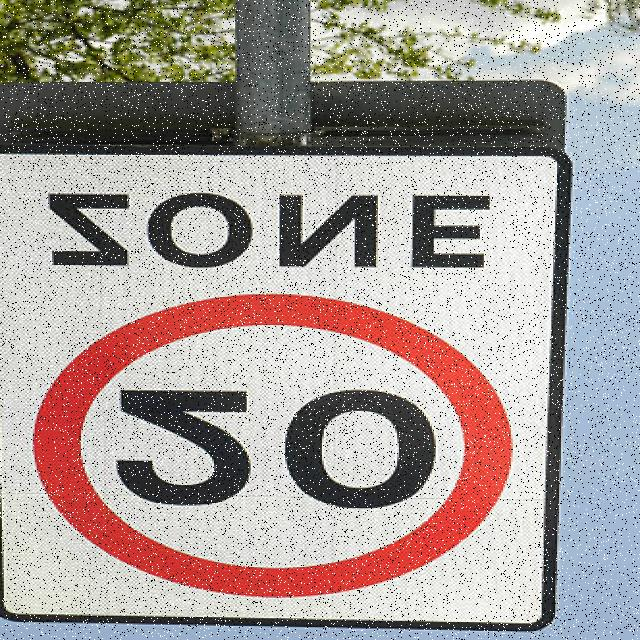speed_limit_20: (26, 287, 536, 606)
